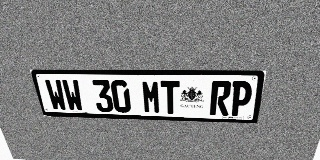0: (110, 80, 131, 113)
3: (92, 80, 114, 112)
M: (141, 80, 161, 114)
P: (229, 81, 254, 116)
R: (209, 81, 232, 116)
T: (160, 80, 179, 114)
W: (44, 79, 68, 111), (61, 79, 84, 111)
